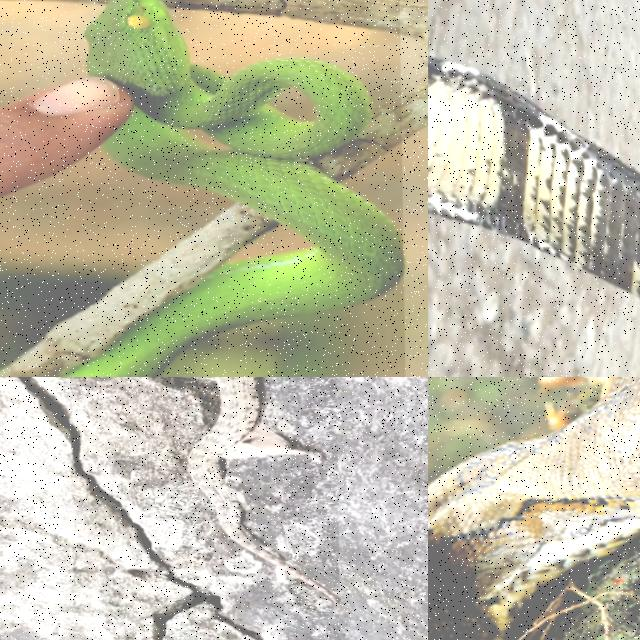Malayopython reticulatus: (428, 377, 639, 639)
Ophiophagus hannah: (428, 57, 639, 298)
Ovophis monticola: (187, 377, 340, 604)
Trimeresurus: (64, 0, 403, 376)
snake: (64, 0, 403, 376), (428, 377, 639, 639), (428, 57, 639, 298), (187, 377, 340, 604)
